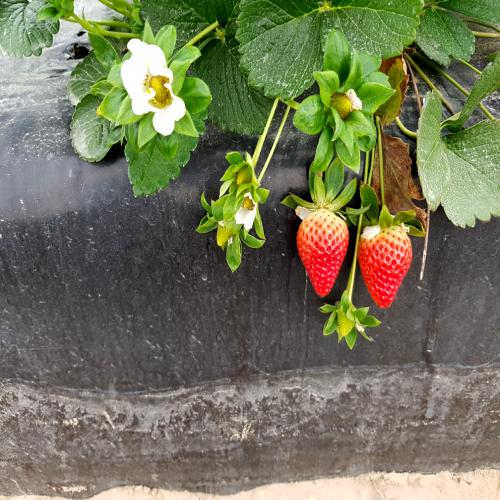ripe: (358, 209, 414, 310), (297, 202, 349, 303)
